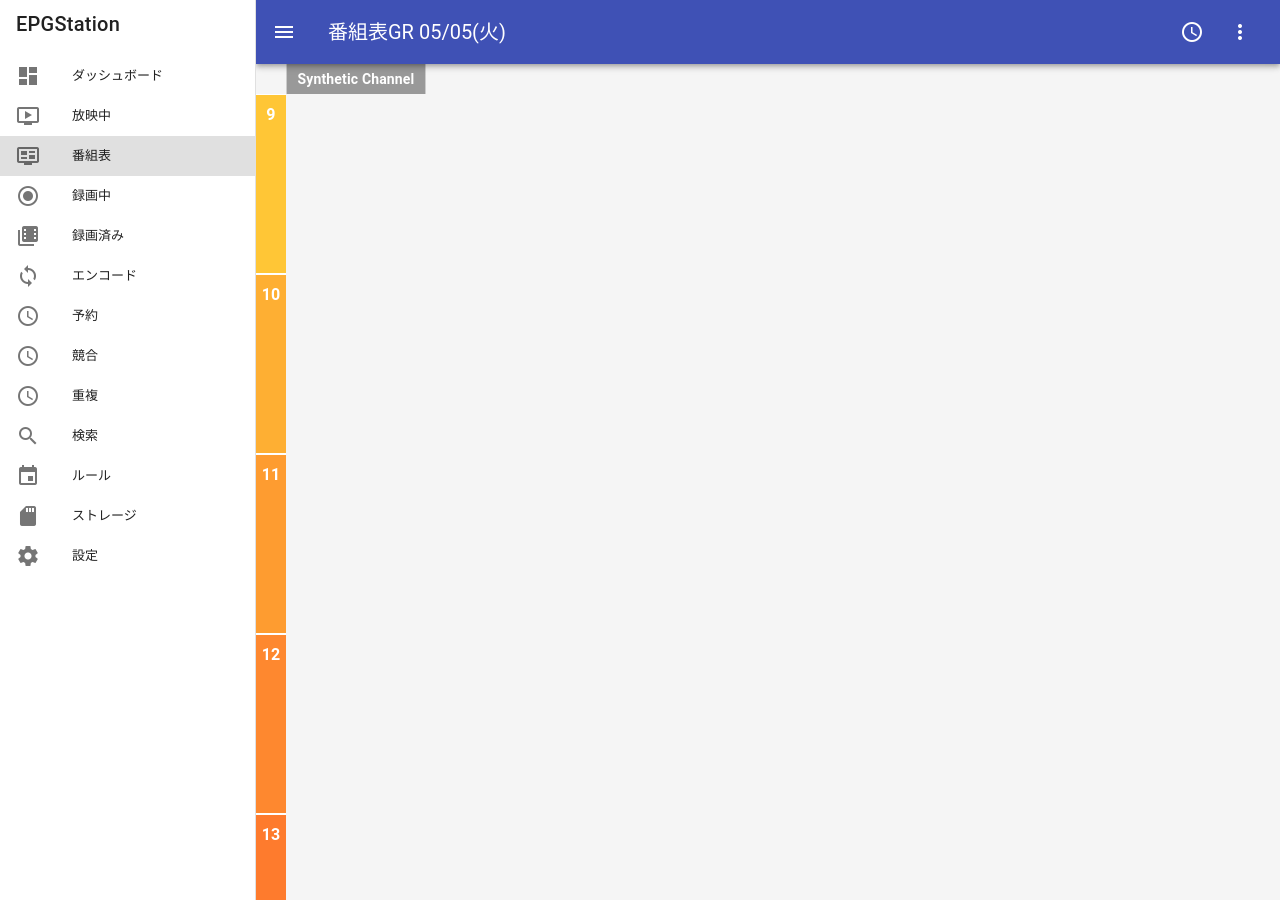
Test: Guide route and fetch lifecycle › [AC 5.1] [AC 5.2] opens the shared live stream dialog from a channel header and shows the Guide button
Expected: the element with test id "guide-page" is shown, left=256, top=64, right=426, bottom=899
Click the text "Synthetic Channel".
click(356, 79)  # box left=286, top=64, right=426, bottom=94
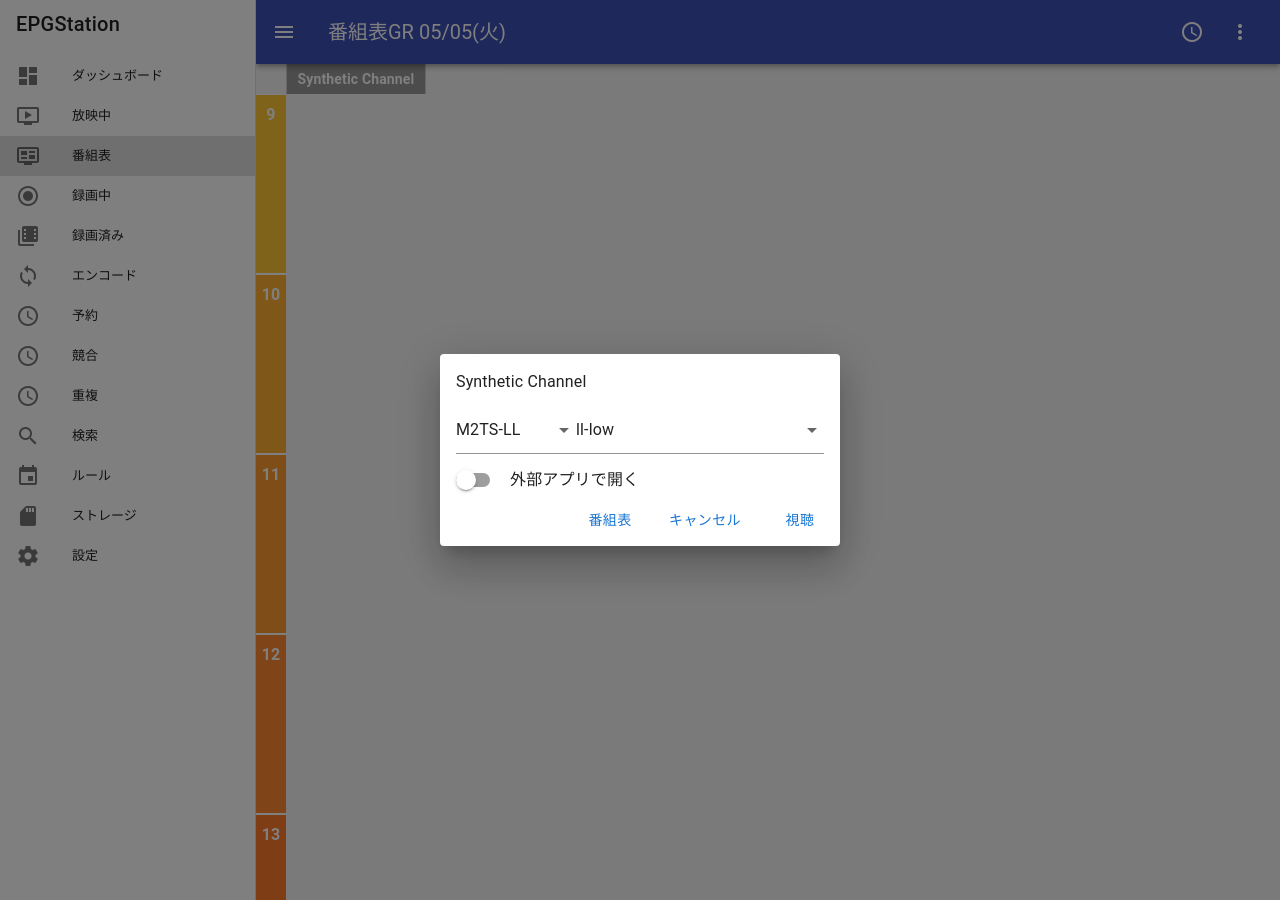
Result: the dialog named "ストリーム選択" shows "Synthetic Channel" at left=456, top=372, right=586, bottom=391
Result: the button "番組表" is shown at left=578, top=502, right=642, bottom=538
Result: the button "キャンセル" is shown at left=650, top=502, right=760, bottom=538
